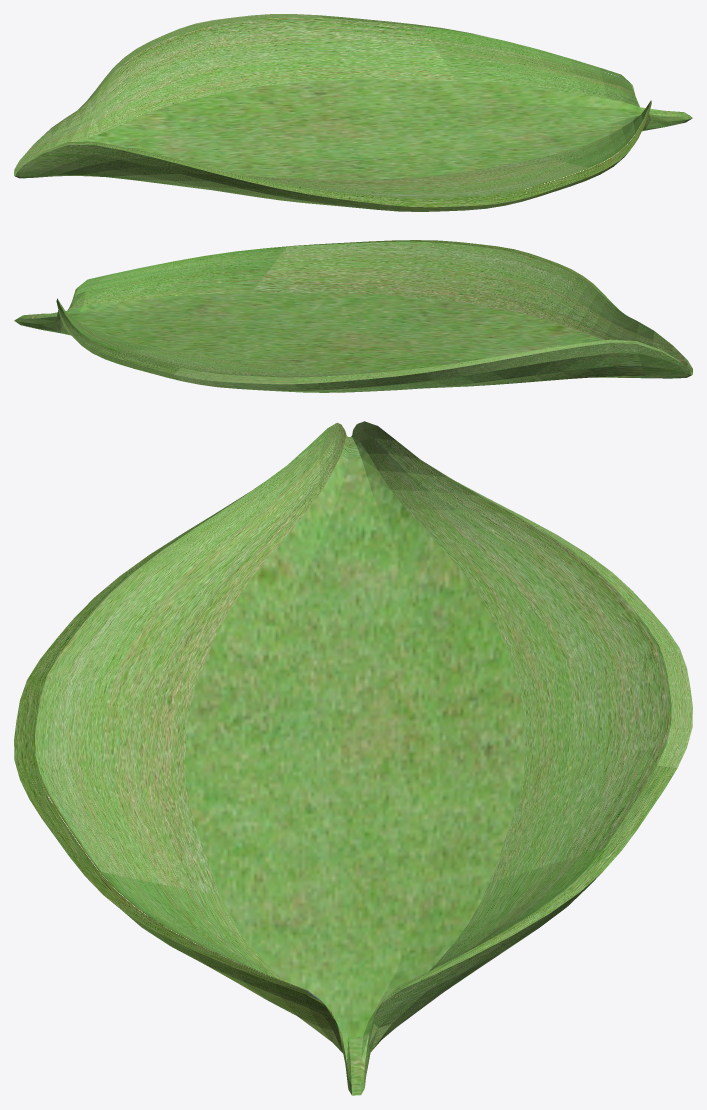
Rendered from rose_leaf.obj.
The picture shows the model from 3 angles, top to bottom: view 1: azimuth 30°, elevation 25°; view 2: azimuth 150°, elevation 25°; view 3: azimuth 270°, elevation 25°; orthographic projection. The views are drawn at different scales.
Size of the model in its own units: 7.42 by 1.48 by 4.29.
1 material, 1 textured.
